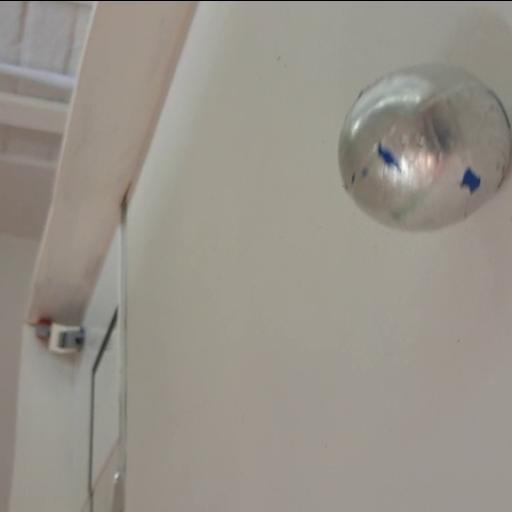alive: (334, 60, 509, 236)
